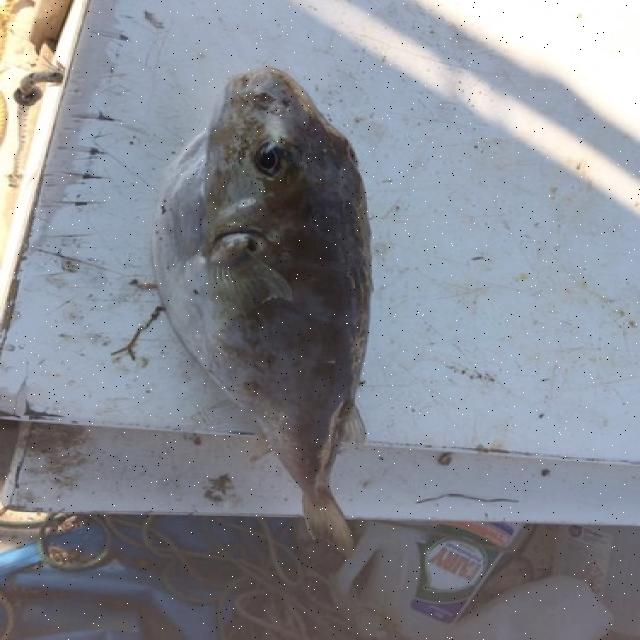Balik: (152, 68, 370, 552)
